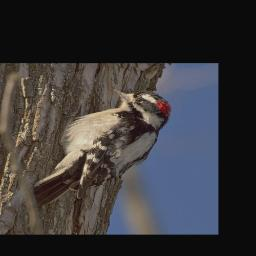Woodpecker: (33, 88, 172, 208)
